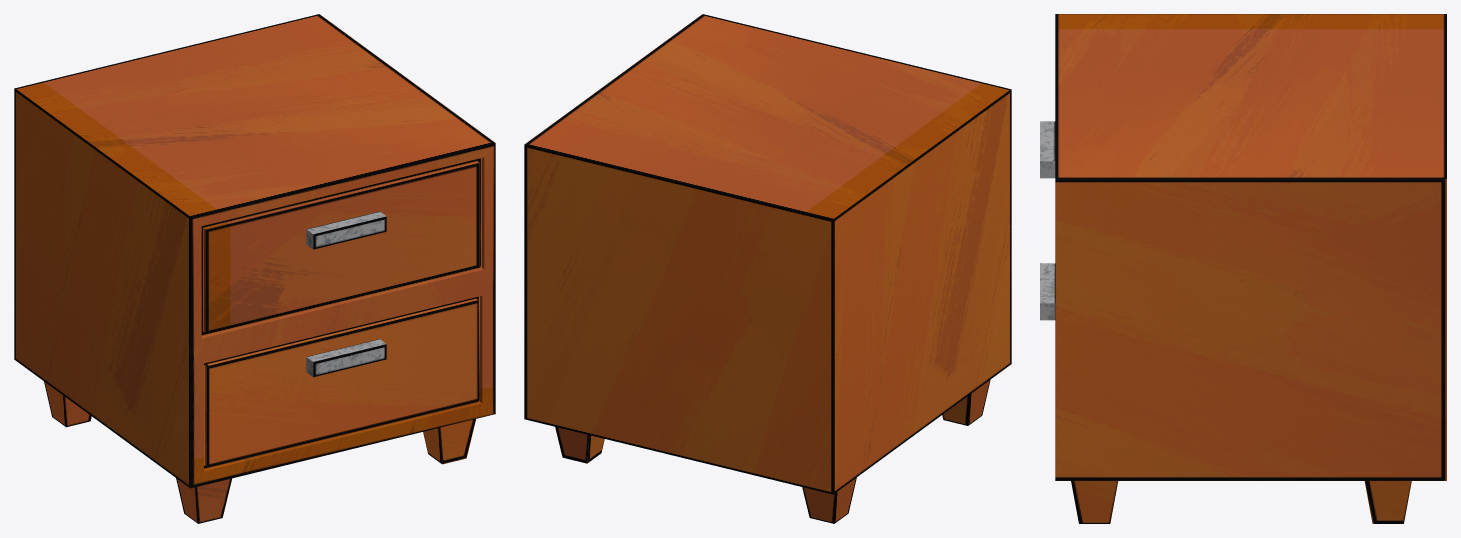
File: Cajonera.fbx
3 views of the same model, side by side, from view 1: azimuth 30°, elevation 25°; view 2: azimuth 150°, elevation 25°; view 3: azimuth 270°, elevation 25° (orthographic). The views are drawn at different scales.
Visible parts, largest first — view 1: Cajonera; view 2: Cajonera; view 3: Cajonera.
Part boxes in pixels (left/top/right/bottom): Cajonera: left=14, top=14, right=495, bottom=523; Cajonera: left=524, top=14, right=1011, bottom=523; Cajonera: left=1040, top=14, right=1446, bottom=523.
Bounding box in the file's own units: 200 × 200 × 208.
Materials: 1 (1 with a texture image).
